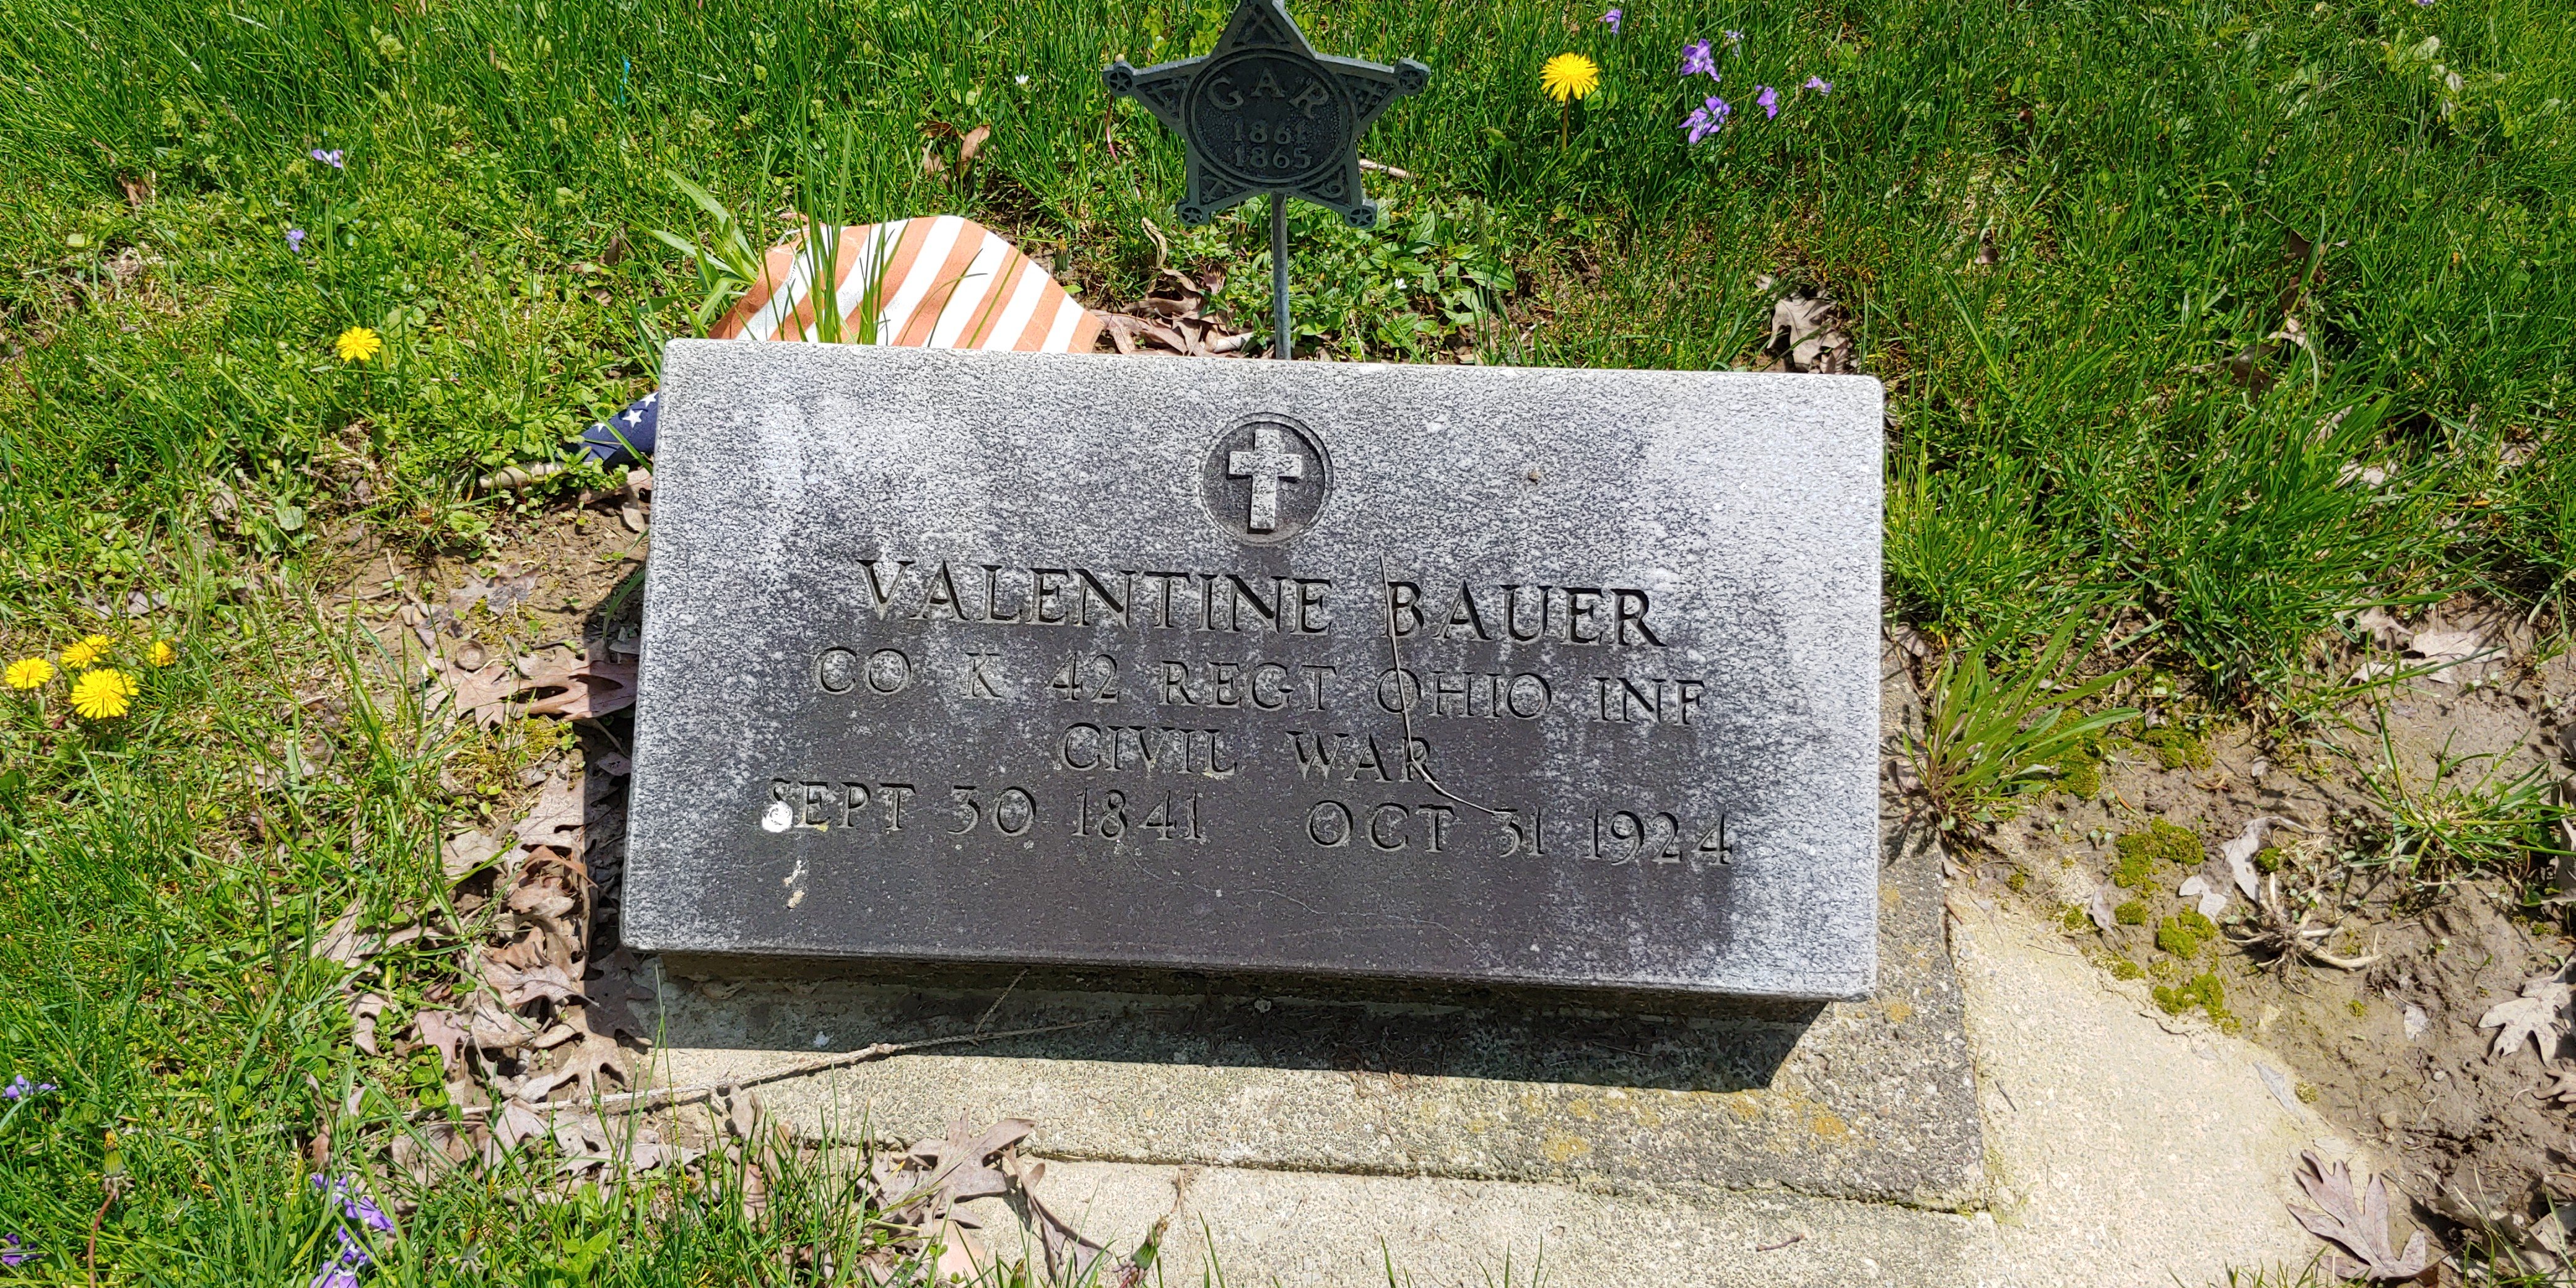slant: (591, 330, 1879, 1012)
